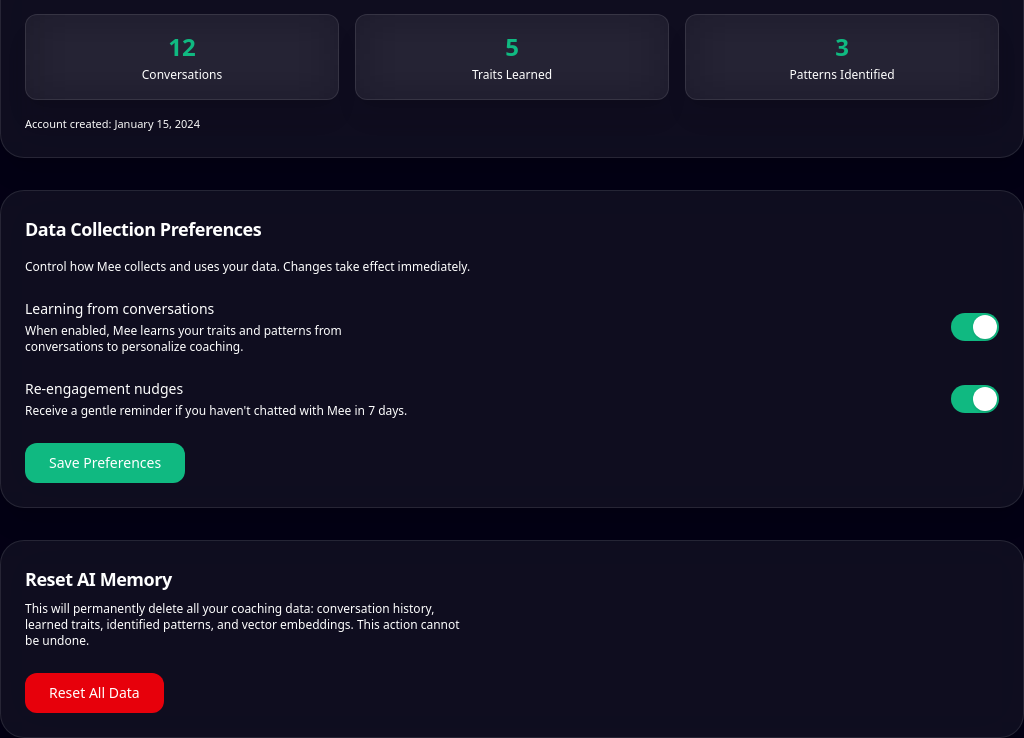
PrivacyControls › shows error on reset failure
(page scrolled)
Click the button "Reset All Data" at (94, 692), box [25,672,164,712]
(page scrolled)
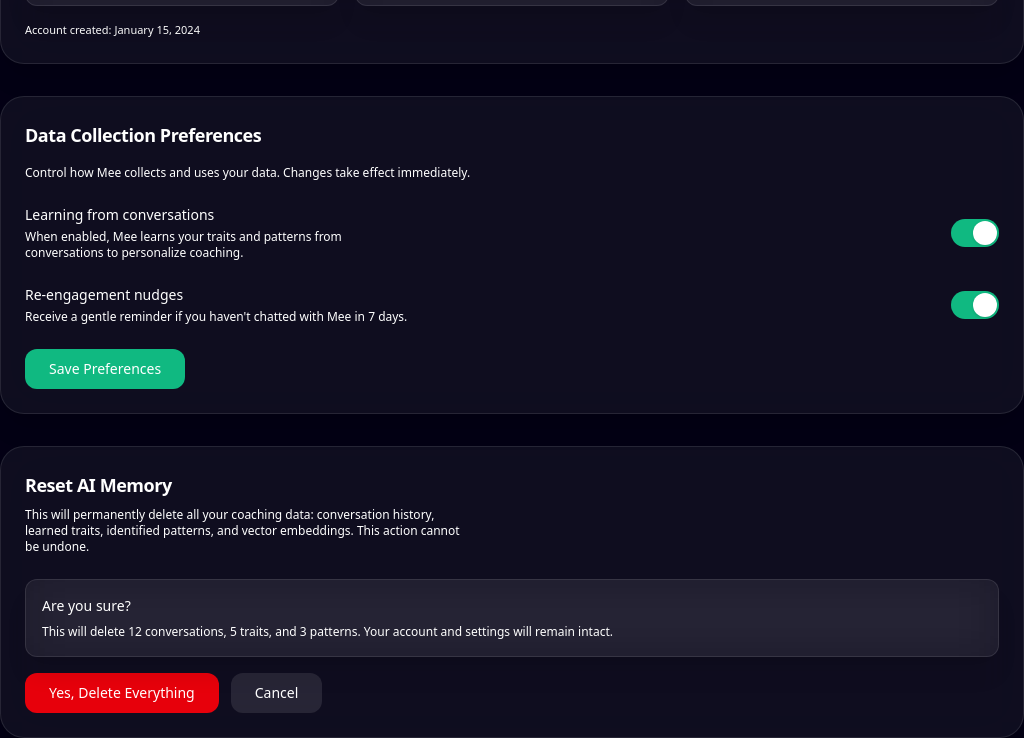
Click the button "Yes, Delete Everything" at (122, 692), box [25,672,219,712]
(page scrolled)
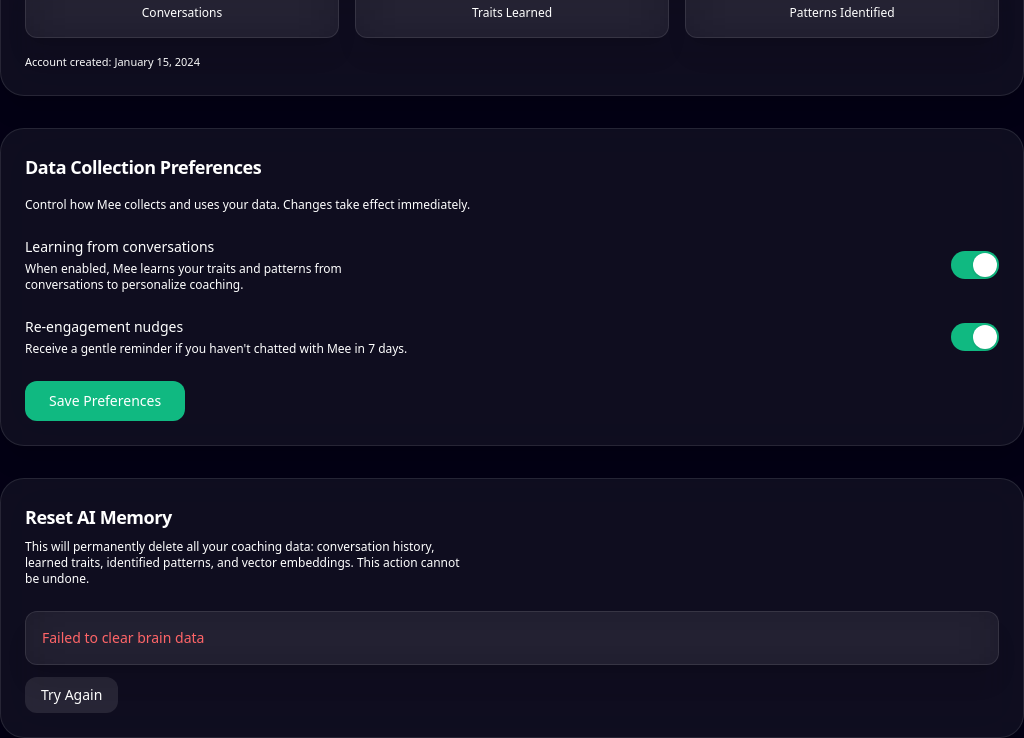
Result: the text "Failed to clear brain data" is shown at [42,628,204,646]
